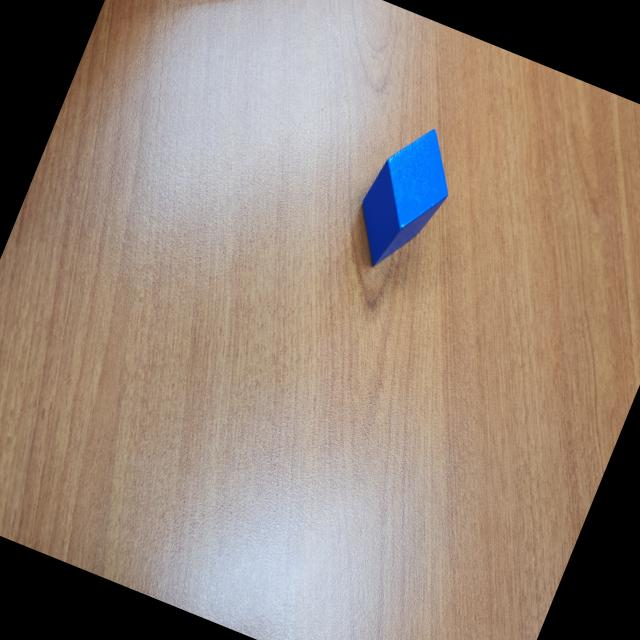blue: (340, 114, 470, 284)
